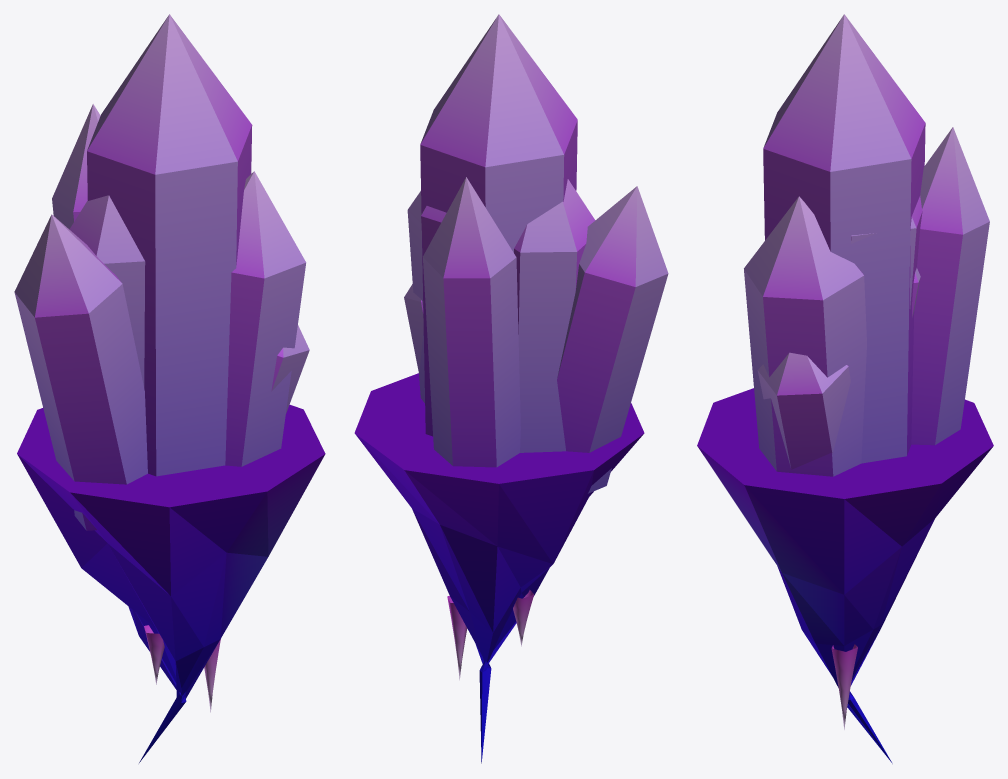
Rendered from Kit_Crystal_Cluster_C.fbx.
3 renders of one model, left to right at view 1: azimuth 30°, elevation 25°; view 2: azimuth 150°, elevation 25°; view 3: azimuth 270°, elevation 25°, orthographic. The views are drawn at different scales.
Parts seen in each view (by area): view 1: Crystal_Cluster_C; view 2: Crystal_Cluster_C; view 3: Crystal_Cluster_C.
Part boxes in pixels (left/top/right/bottom): Crystal_Cluster_C: left=14, top=14, right=325, bottom=762; Crystal_Cluster_C: left=354, top=14, right=668, bottom=763; Crystal_Cluster_C: left=697, top=14, right=993, bottom=763.
Size of the model in its own units: 3.13 by 7.92 by 2.82.
